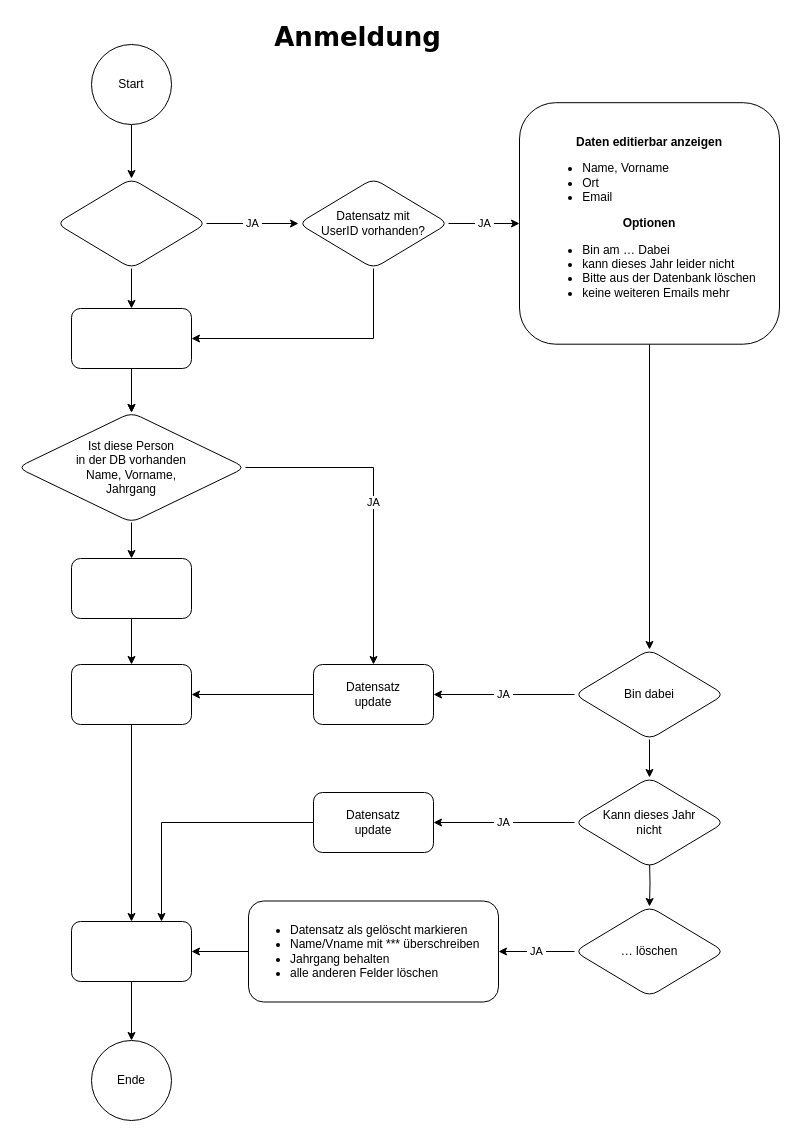
Image size: 797x1138. Some labels were removed from this diagram. The shapes that lost their labels are listed below. From the top down, each one's box as (x1, y1, x2, y2) in pixels, then its label:
(56, 178, 206, 268): UserID in Link?
(70, 308, 192, 368): Anziegen leeres Formular
(70, 558, 192, 618): Daten prüfen und speichern
(70, 664, 192, 724): Datensatz Zu Druck markieren
(70, 920, 192, 982): Bestätigungs- Mail schicken
